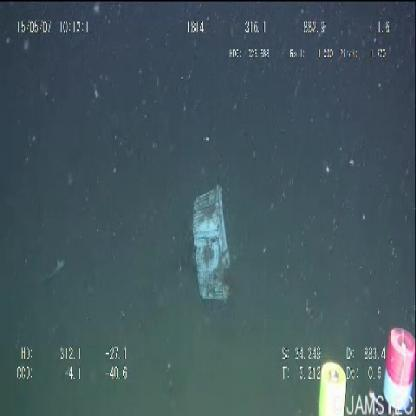Rác: (193, 185, 231, 303)
